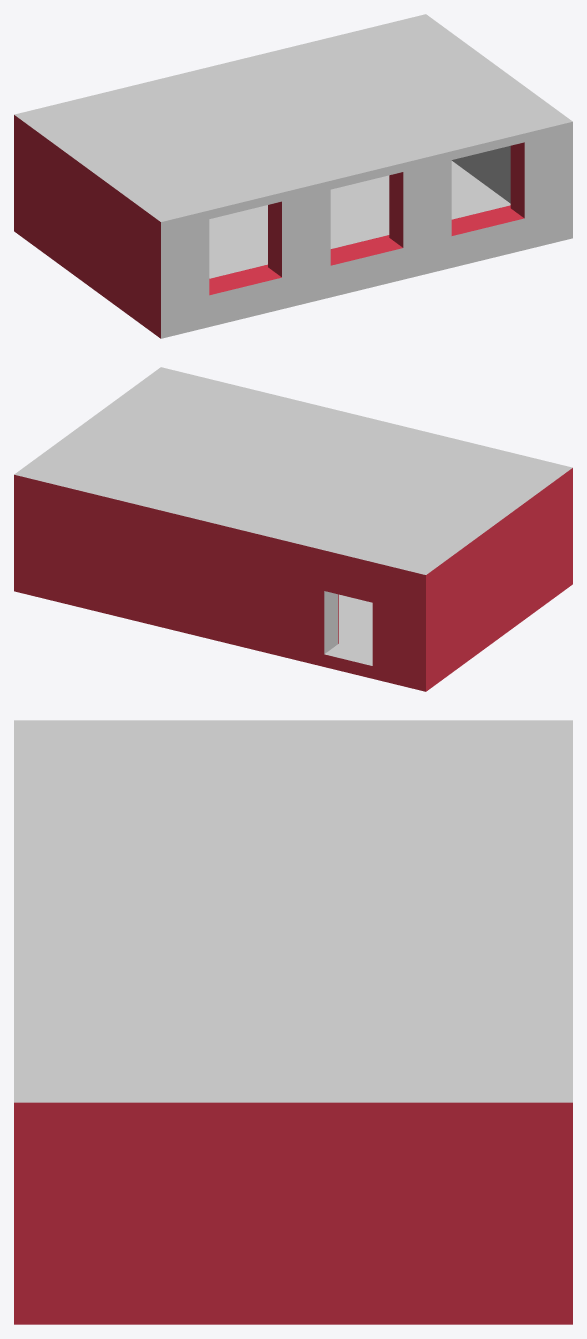
File: Main.fbx
The picture shows the model from 3 angles, top to bottom: view 1: azimuth 30°, elevation 25°; view 2: azimuth 150°, elevation 25°; view 3: azimuth 270°, elevation 25°; orthographic projection. The views are drawn at different scales.
Visible parts, largest first — view 1: 316.005; view 2: 316.005; view 3: 316.005.
Boxes of the visible parts, x1,y1,x2,y2 form: 316.005: [14, 14, 572, 338]; 316.005: [14, 367, 572, 691]; 316.005: [14, 720, 572, 1324].
Bounding box in the file's own units: 1700 × 460 × 1050.
